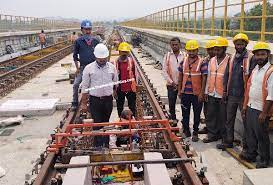arm: (256, 70, 272, 125), (211, 58, 227, 103), (239, 65, 252, 116), (173, 55, 186, 99), (160, 52, 175, 89), (197, 58, 209, 103), (130, 56, 140, 91), (78, 64, 89, 94), (111, 60, 120, 96), (70, 38, 79, 69)
face: (251, 48, 269, 63), (233, 38, 247, 51), (210, 44, 224, 56), (169, 40, 180, 52), (185, 47, 198, 57), (94, 55, 108, 64), (117, 48, 129, 58), (79, 26, 91, 35)
footwear: (236, 148, 258, 166), (217, 134, 235, 149), (202, 130, 219, 143), (179, 125, 191, 137), (189, 128, 200, 140)
glove: (256, 110, 269, 124), (197, 91, 208, 103), (239, 101, 249, 114), (164, 77, 174, 87), (218, 94, 227, 105), (72, 60, 80, 70)
helmet: (251, 39, 272, 53), (92, 41, 109, 58), (209, 35, 229, 48), (231, 30, 249, 44), (184, 36, 200, 50), (116, 39, 132, 53), (77, 17, 92, 30)
human: (237, 37, 273, 166), (202, 34, 233, 144), (80, 41, 115, 121), (178, 35, 205, 138), (113, 39, 140, 117), (160, 34, 183, 121)
leg: (237, 107, 261, 166), (218, 96, 237, 149), (201, 96, 220, 144), (178, 94, 192, 138), (190, 94, 204, 137), (68, 71, 81, 108), (164, 89, 177, 122), (126, 90, 139, 119), (91, 95, 103, 123), (101, 95, 113, 121)
noglove: (256, 110, 269, 124), (240, 100, 249, 114)
nogoggle: (253, 51, 269, 58), (211, 47, 222, 52)
nohelmet: (167, 35, 181, 51)
novest: (85, 60, 113, 97), (116, 54, 136, 90), (163, 50, 181, 88)
vest: (244, 62, 273, 112), (85, 60, 113, 97), (206, 54, 230, 97), (181, 54, 203, 96), (230, 51, 248, 97), (116, 55, 136, 90), (163, 51, 181, 87), (74, 35, 94, 64)
